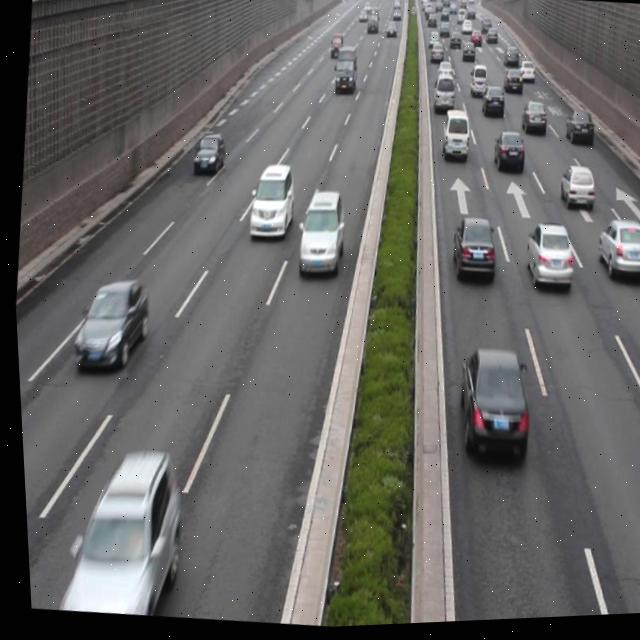car: (46, 441, 183, 622), (444, 347, 530, 468), (66, 279, 150, 377), (289, 190, 344, 280), (243, 166, 295, 246), (517, 227, 572, 297), (444, 217, 495, 290), (589, 219, 640, 288), (555, 168, 595, 215), (435, 112, 469, 167), (489, 130, 525, 177), (189, 131, 224, 176), (560, 115, 593, 152), (517, 104, 547, 143)
